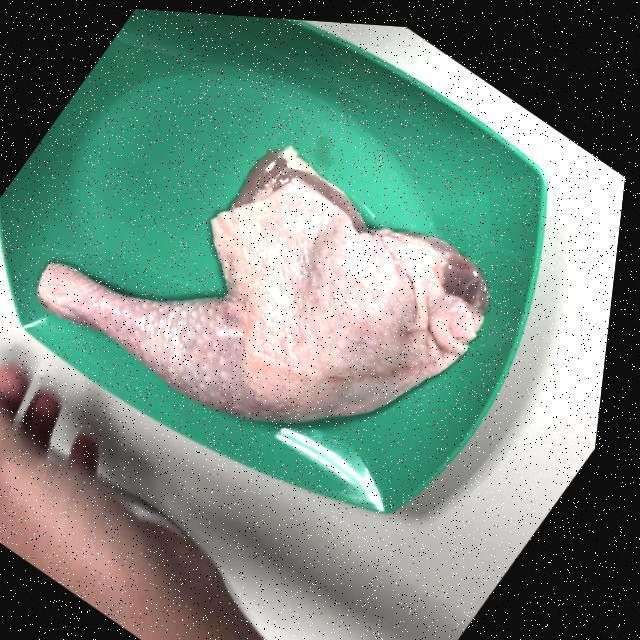quater: (38, 152, 486, 417)
